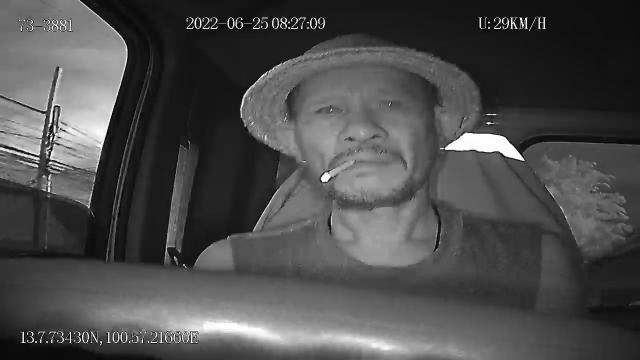SafeDriving: (311, 96, 349, 120), (372, 91, 408, 115)
Smoking: (319, 159, 357, 183)
